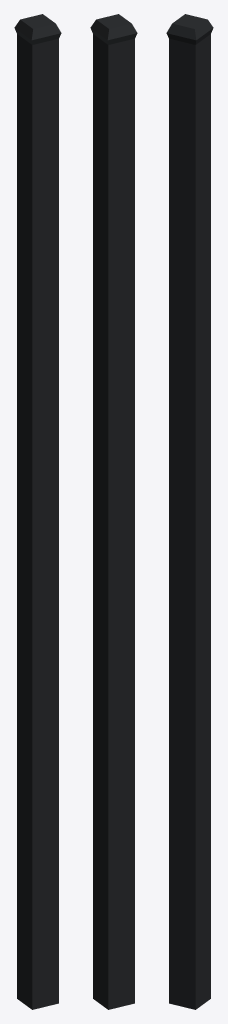
Rendered from SM_Bld_Fence_Pillar_01.fbx.
3 renders of one model, left to right at view 1: azimuth 30°, elevation 25°; view 2: azimuth 210°, elevation 25°; view 3: azimuth 330°, elevation 25°, orthographic.
Parts seen in each view (by area): view 1: SM_Bld_Fence_Pillar_01; view 2: SM_Bld_Fence_Pillar_01; view 3: SM_Bld_Fence_Pillar_01.
Part boxes in pixels (<box>): SM_Bld_Fence_Pillar_01: <box>14,14,61,1009</box>; SM_Bld_Fence_Pillar_01: <box>90,14,137,1009</box>; SM_Bld_Fence_Pillar_01: <box>166,14,213,1009</box>.
Bounding box in the file's own units: 9.36 × 293 × 9.36.
